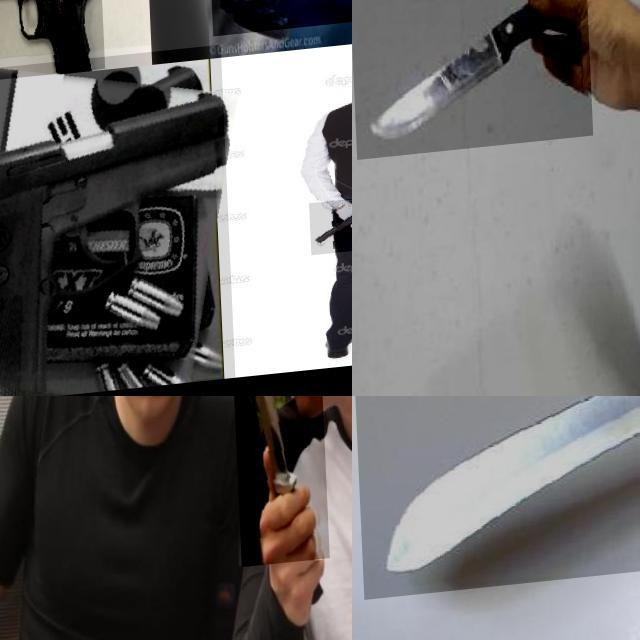-: (352, 396, 640, 600), (352, 0, 590, 164), (227, 396, 325, 574)
gun-knife-thesis - v11 Yolov5 augmented: (0, 51, 229, 396), (200, 0, 352, 135), (0, 0, 146, 108), (0, 0, 102, 85), (304, 206, 352, 264)
